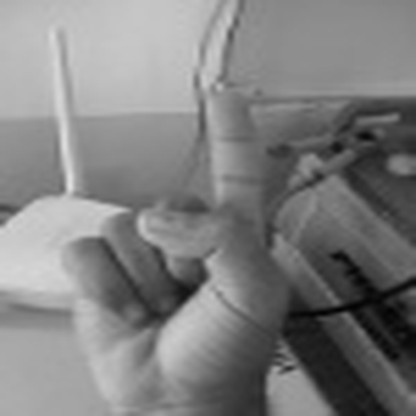d: (66, 85, 276, 412)
